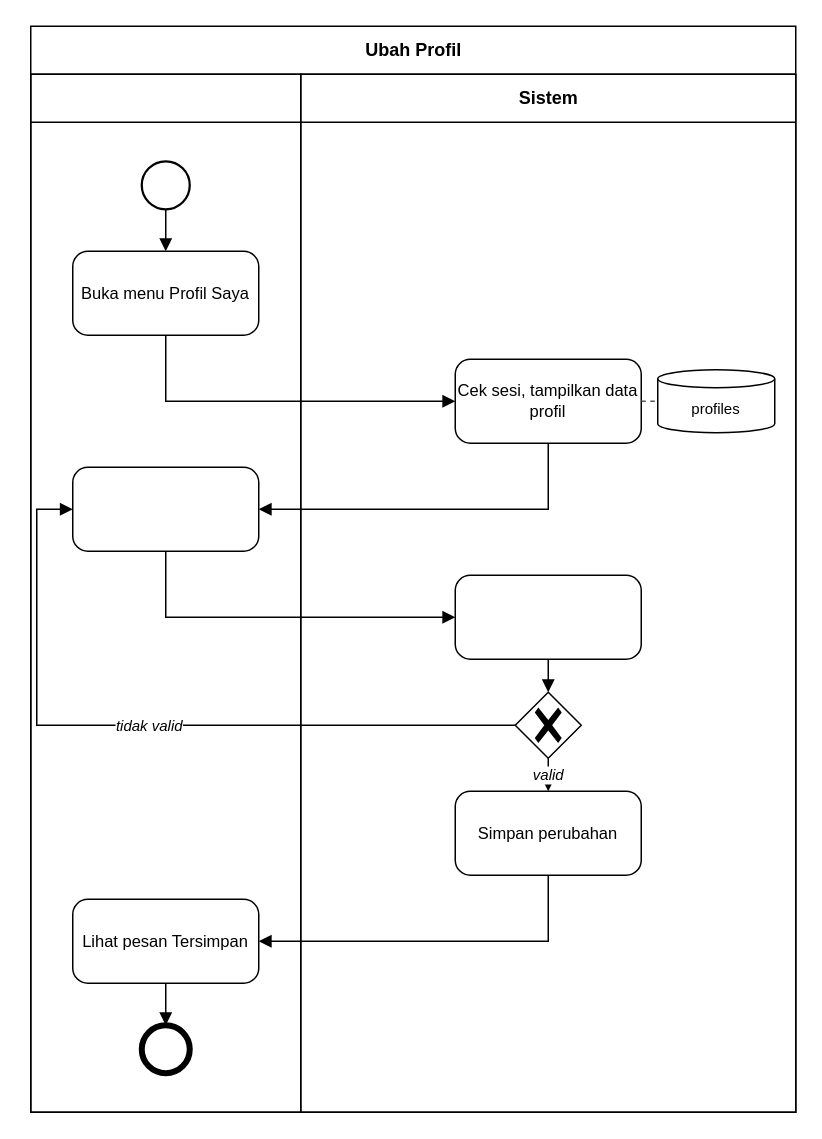
This 822x1139 diagram has some shape labels left out. The shapes that lost their labels are listed below. From the top down, each one's box as (x1, y1, x2, y2) in pixels, then its label:
(71, 466, 259, 551): Ubah nama/nomor HP atau isi password lama dan baru
(29, 73, 301, 1112): Member
(454, 574, 641, 659): Validasi (nomor HP unik, password lama benar)
